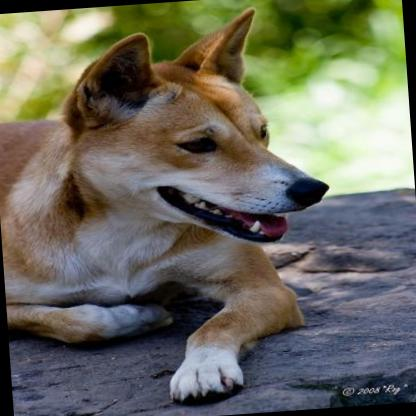dingo: (0, 0, 345, 416)
